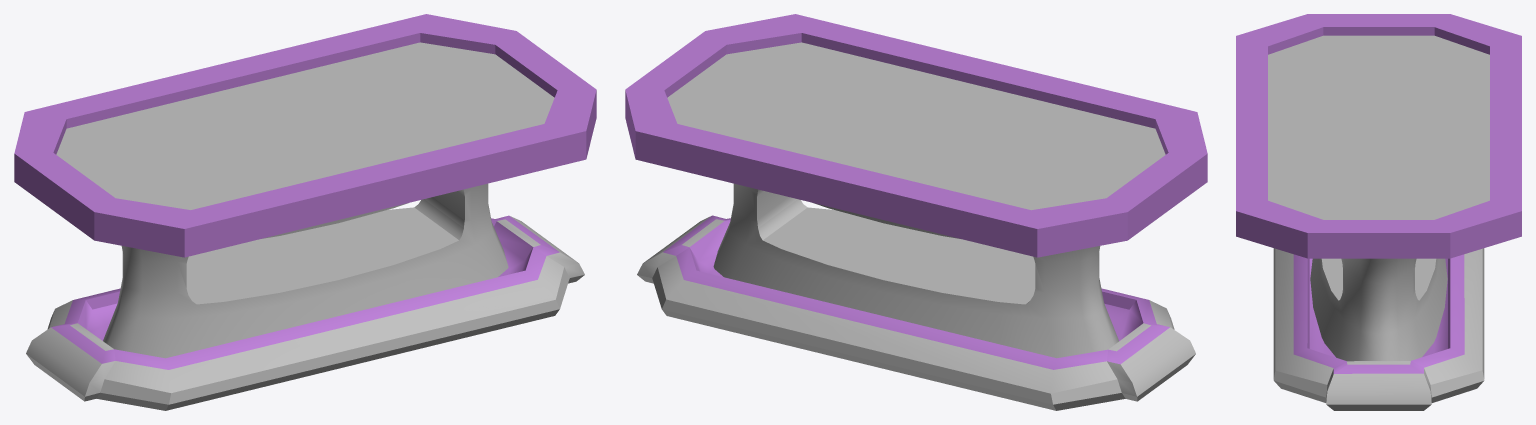
Rendered from table.glb.
3 renders of one model, left to right at view 1: azimuth 30°, elevation 25°; view 2: azimuth 150°, elevation 25°; view 3: azimuth 270°, elevation 25°, orthographic. The views are drawn at different scales.
Parts seen in each view (by area): view 1: table; view 2: table; view 3: table.
Boxes of the visible parts, x1,y1,x2,y2 form: table: (14,14,596,410); table: (625,14,1207,410); table: (1236,14,1521,410).
Bounding box in the file's own units: 1.81 × 0.6958 × 0.9997.
